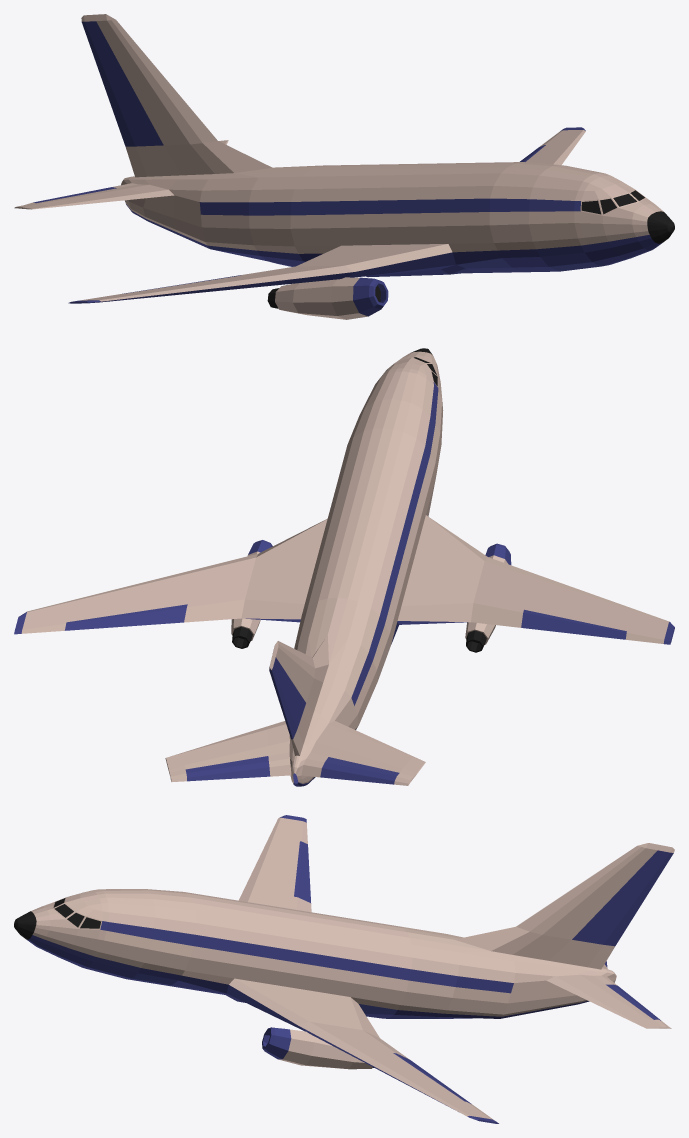
The model's file is airplane.glb.
3 views of the same model, one above another, from view 1: azimuth 30°, elevation 25°; view 2: azimuth 150°, elevation 25°; view 3: azimuth 270°, elevation 25° (orthographic). The views are drawn at different scales.
Parts seen in each view (by area): view 1: Airplane; view 2: Airplane; view 3: Airplane.
Part boxes in pixels (left/top/right/bottom): Airplane: left=14, top=14, right=674, bottom=319; Airplane: left=14, top=348, right=674, bottom=786; Airplane: left=14, top=815, right=674, bottom=1123.
Bounding box in the file's own units: 3.09 × 0.986 × 3.32.
